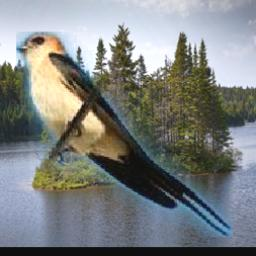Swallow: (16, 32, 233, 237)
